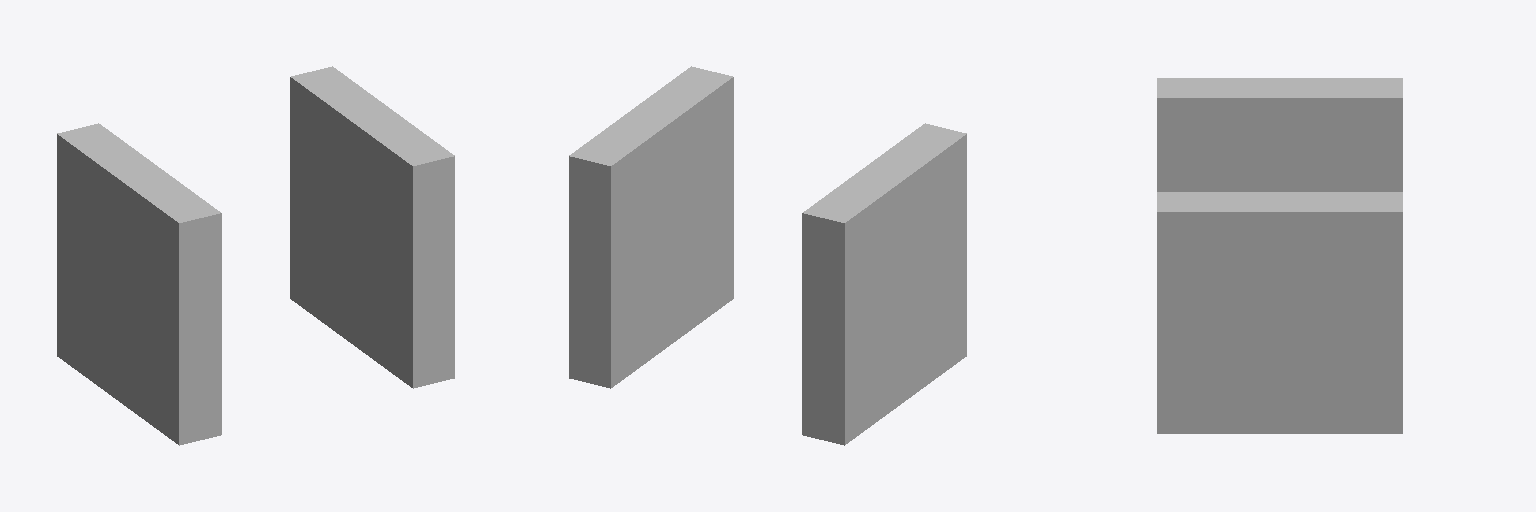
The model's file is struct_large_straight_wall.obj.
3 renders of one model, left to right at view 1: azimuth 30°, elevation 25°; view 2: azimuth 150°, elevation 25°; view 3: azimuth 270°, elevation 25°, orthographic.
Visible parts, largest first — view 1: struct_large_straight_wall, struct_large_straight_wall_2; view 2: struct_large_straight_wall, struct_large_straight_wall_2; view 3: struct_large_straight_wall_2, struct_large_straight_wall.
Part boxes in pixels (left/top/right/bottom): struct_large_straight_wall: left=57, top=123, right=221, bottom=445; struct_large_straight_wall_2: left=290, top=66, right=454, bottom=388; struct_large_straight_wall: left=802, top=123, right=966, bottom=445; struct_large_straight_wall_2: left=569, top=66, right=733, bottom=388; struct_large_straight_wall_2: left=1157, top=192, right=1402, bottom=433; struct_large_straight_wall: left=1157, top=78, right=1402, bottom=191.
Size of the model in its own units: 1.3 by 1 by 1.